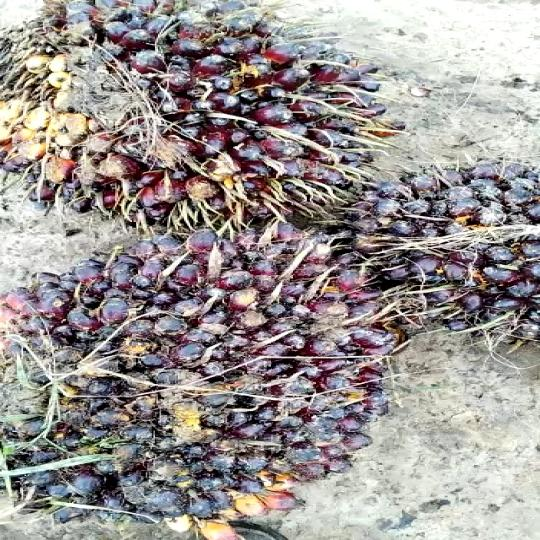kurang masak: (0, 226, 387, 540), (0, 0, 363, 240), (323, 154, 540, 349)
